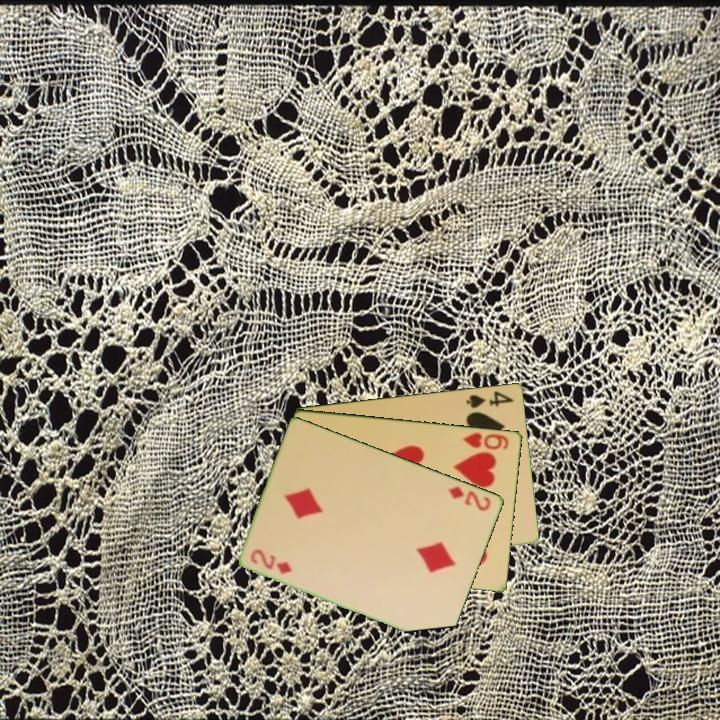2d: (445, 482, 494, 514), (247, 546, 295, 577)
4s: (463, 387, 517, 411)
6h: (460, 429, 512, 452)
